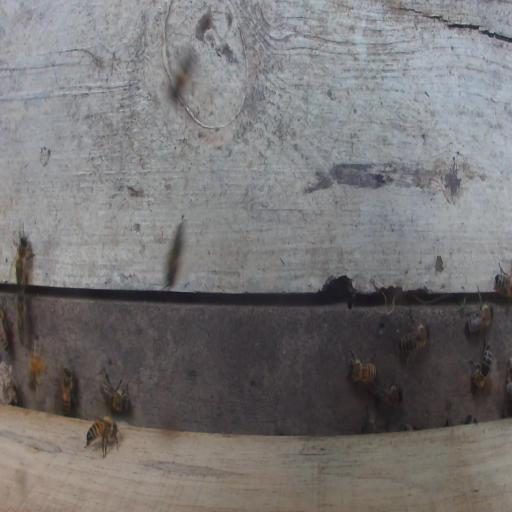bee: (398, 306, 432, 368), (7, 220, 36, 290), (81, 411, 119, 460), (95, 364, 131, 415), (464, 283, 495, 335), (345, 342, 380, 385), (467, 333, 492, 393), (166, 218, 187, 289), (54, 364, 79, 418), (372, 370, 404, 410), (28, 329, 43, 393), (492, 260, 512, 302), (1, 294, 14, 351), (361, 411, 392, 432), (16, 293, 28, 346)
